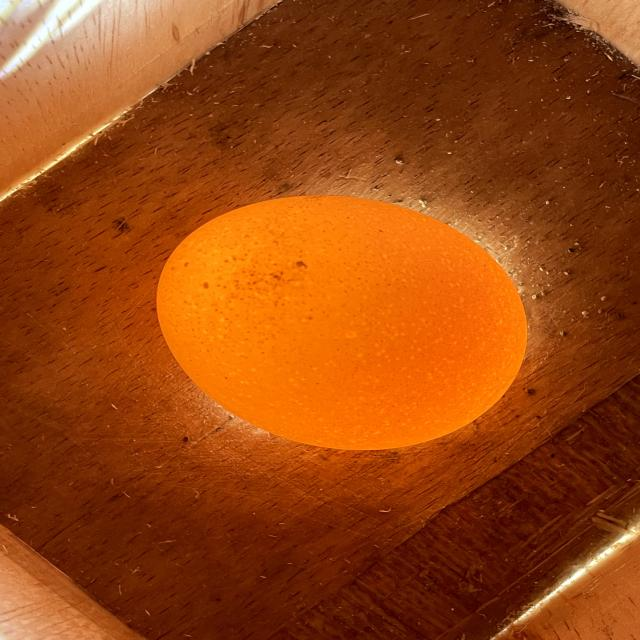infertile: (157, 196, 527, 450)
